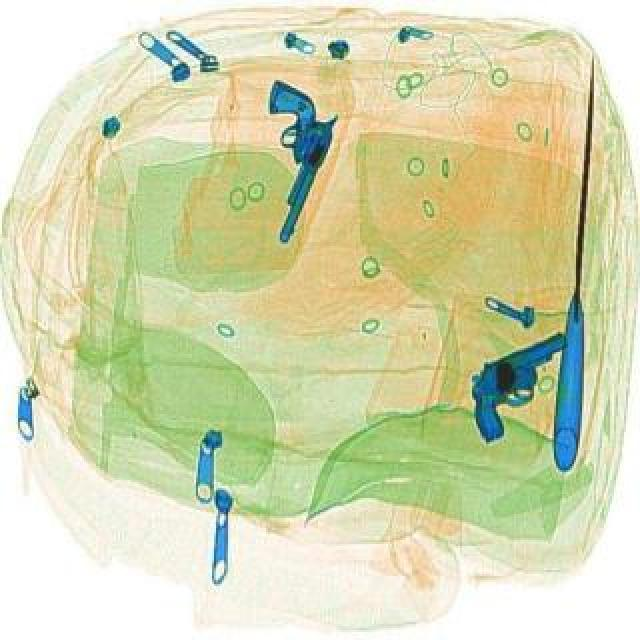gun: (212, 82, 356, 252), (454, 336, 598, 448)
knife: (554, 54, 610, 478)
